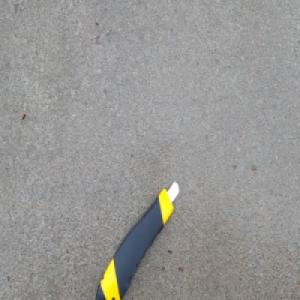Cutter: (93, 178, 180, 299)
